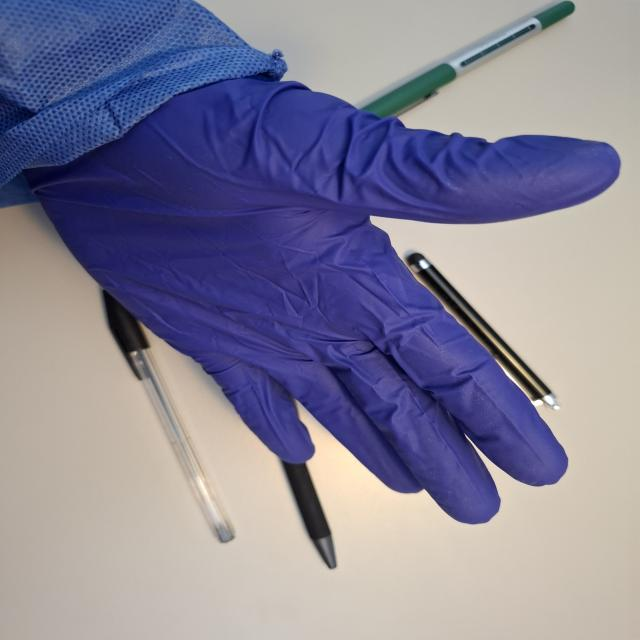glove_on: (17, 66, 626, 528)
